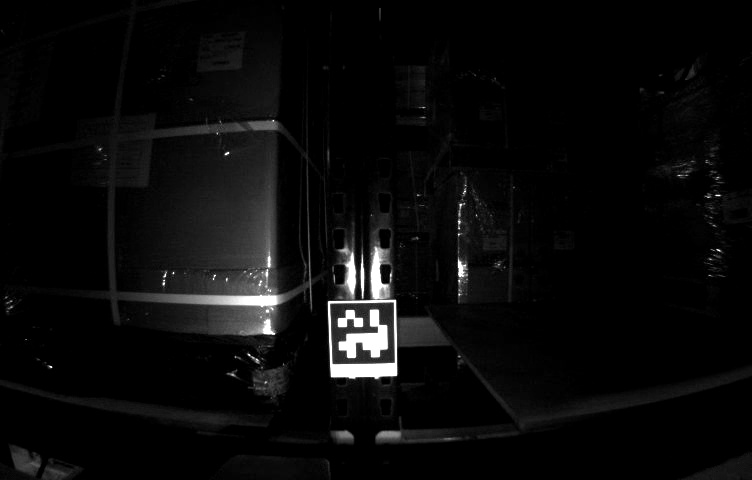True Barcode: (197, 36, 242, 67)
